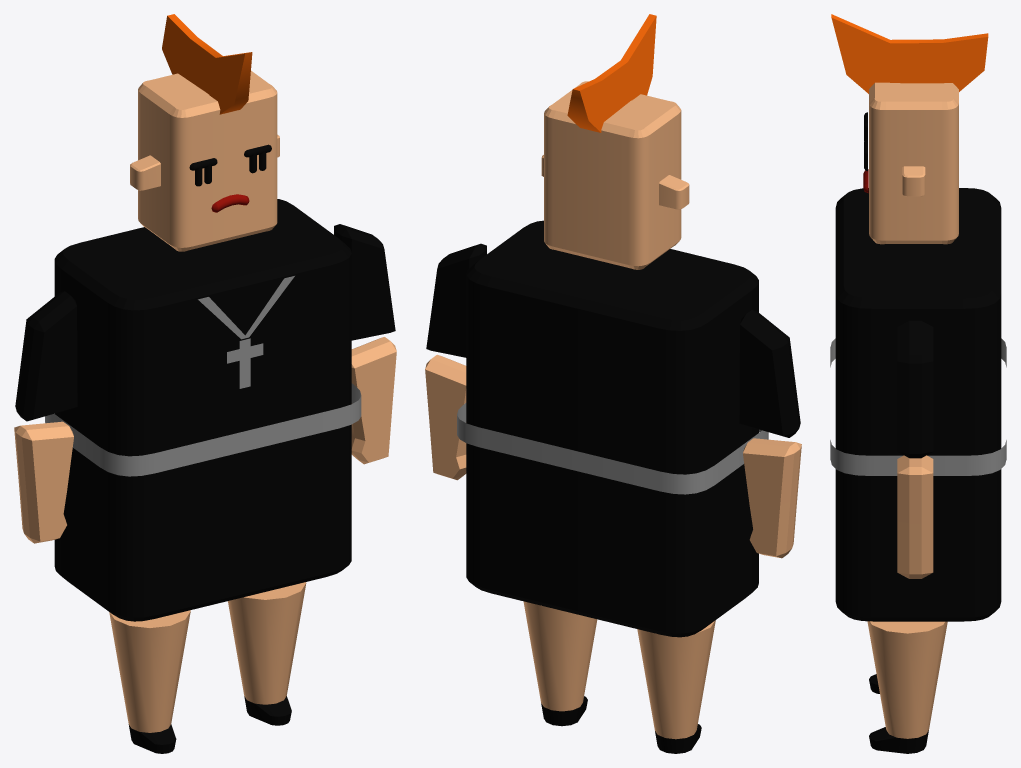
The model's file is ch_m_mob.FBX.
3 views of the same model, side by side, from view 1: azimuth 30°, elevation 25°; view 2: azimuth 150°, elevation 25°; view 3: azimuth 270°, elevation 25° (orthographic). The views are drawn at different scales.
Visible parts, largest first — view 1: Box784, Box792, Cone041, Cone042, Box788, Box787, Line001, Box786, Box785, OilTank005; view 2: Box784, Box792, Cone041, Cone042, Box788, Box787, Line001, Box786, Box785; view 3: Box784, Box792, Cone042, Line001, Box785, Box786, OilTank005.
Boxes of the visible parts, x1,y1,x2,y2 form: Box784: (45,199,361,621); Box792: (130,70,279,251); Cone041: (109,610,190,753); Cone042: (228,582,306,725); Box788: (15,291,77,421); Box787: (14,421,73,543); Line001: (162,14,252,114); Box786: (351,337,396,464); Box785: (334,224,395,340); OilTank005: (189,144,271,212); Box784: (457,220,768,637); Box792: (541,81,689,269); Cone041: (637,620,715,753); Cone042: (523,601,597,726); Box788: (739,310,800,437); Box787: (743,438,801,558); Line001: (567,14,656,132); Box786: (425,354,466,480); Box785: (426,243,486,357); Box784: (830,188,1006,621); Box792: (869,82,958,244); Cone042: (867,621,947,753); Line001: (831,14,988,93); Box785: (897,320,933,458); Box786: (897,455,933,578); OilTank005: (863,112,868,193).
Size of the model in its own units: 3.1 by 5.55 by 1.26.
